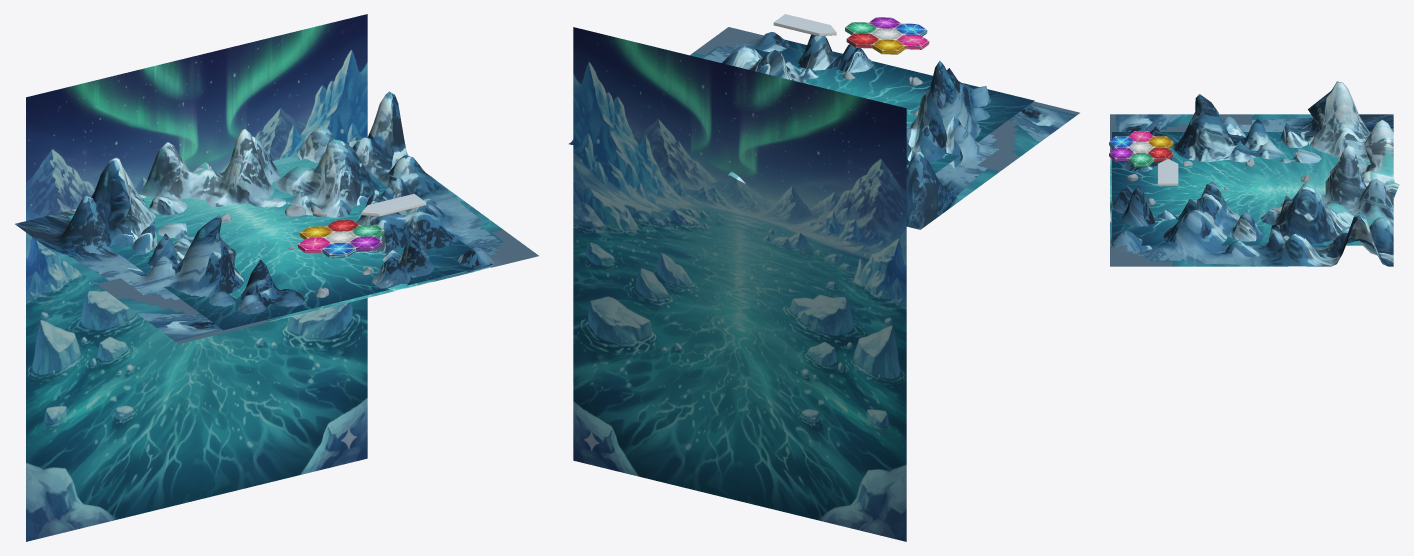
Rendered from Escenario.fbx.
The picture shows the model from 3 angles, left to right: view 1: azimuth 30°, elevation 25°; view 2: azimuth 150°, elevation 25°; view 3: azimuth 270°, elevation 25°; orthographic projection. The views are drawn at different scales.
Parts seen in each view (by area): view 1: Cielo, Montañas, Agua, Plataforma; view 2: Cielo, Montañas, Agua, Plataforma; view 3: Montañas, Agua, Plataforma.
Boxes of the visible parts, <box> form: Cielo: <box>26,14,367,541</box>; Montañas: <box>15,91,538,343</box>; Agua: <box>68,158,492,330</box>; Plataforma: <box>361,194,426,216</box>; Cielo: <box>573,27,906,541</box>; Montañas: <box>569,27,1079,229</box>; Agua: <box>755,39,1034,173</box>; Plataforma: <box>773,14,836,36</box>; Montañas: <box>1110,81,1399,266</box>; Agua: <box>1111,132,1375,245</box>; Plataforma: <box>1157,159,1178,185</box>.
Size of the model in its own units: 66.31 by 78.06 by 53.59.
Materials: 14 (10 with a texture image).
